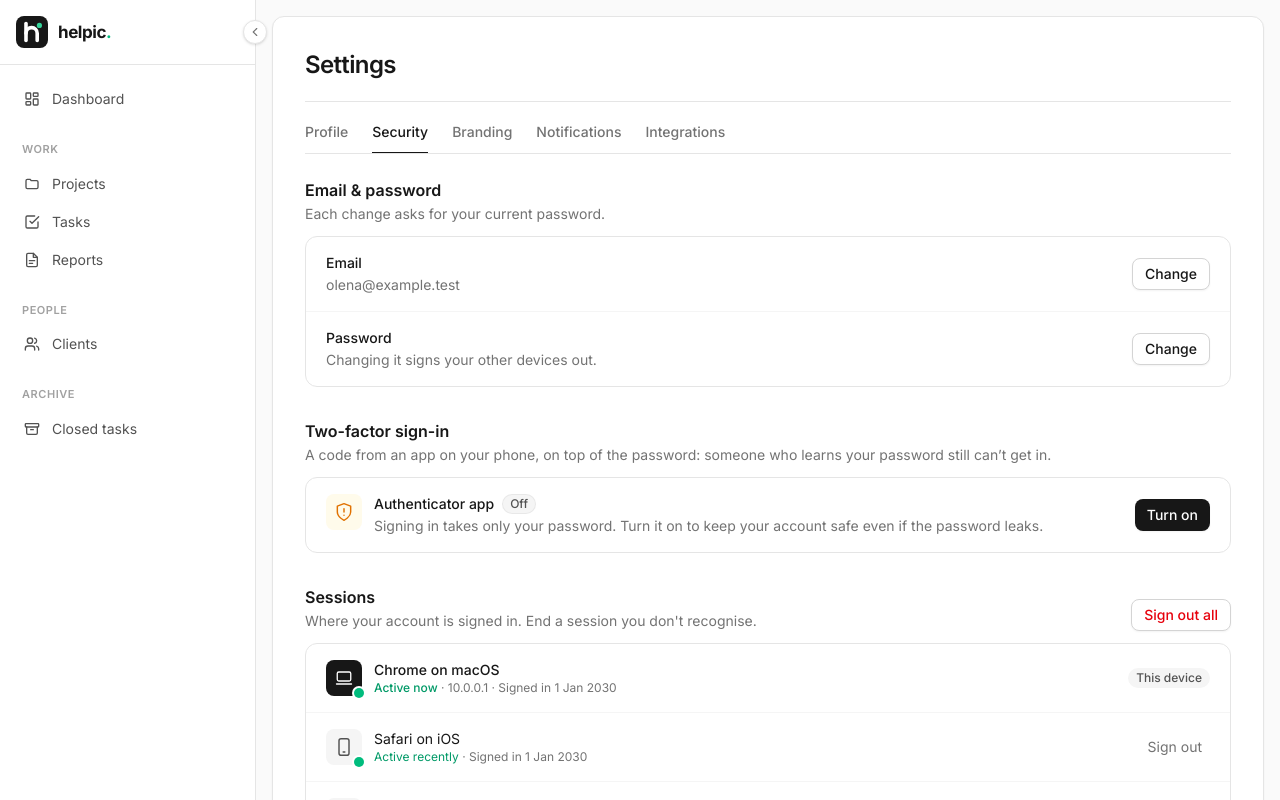
Test case: Settings › Security › hands a refused new password back to its field
Click the 2nd button "Change" at [1171, 349], box [1132,333,1210,365]
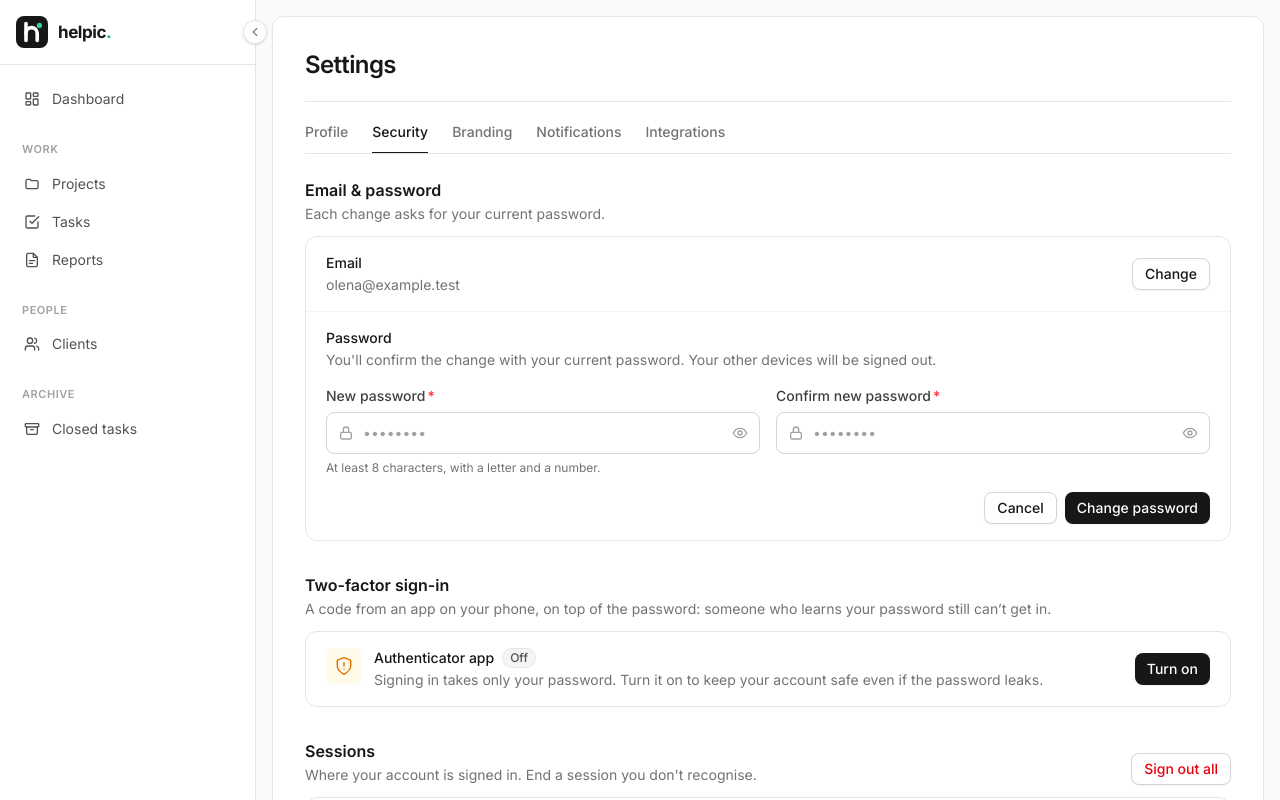
Type "password1" into the password field labelled "New password*" at [543, 433], box [326,412,760,454]
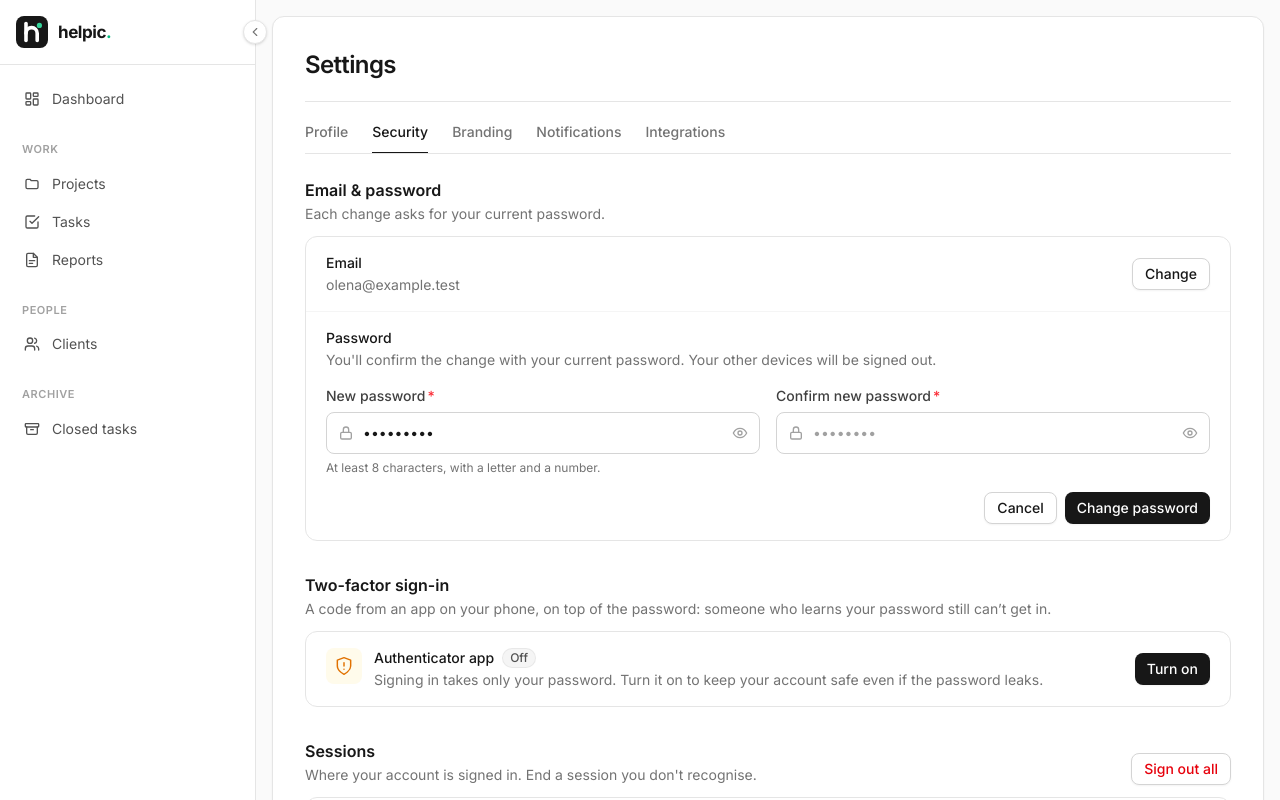
Type "password1" into the password field labelled "Confirm new password*" at [993, 433], box [776,412,1210,454]
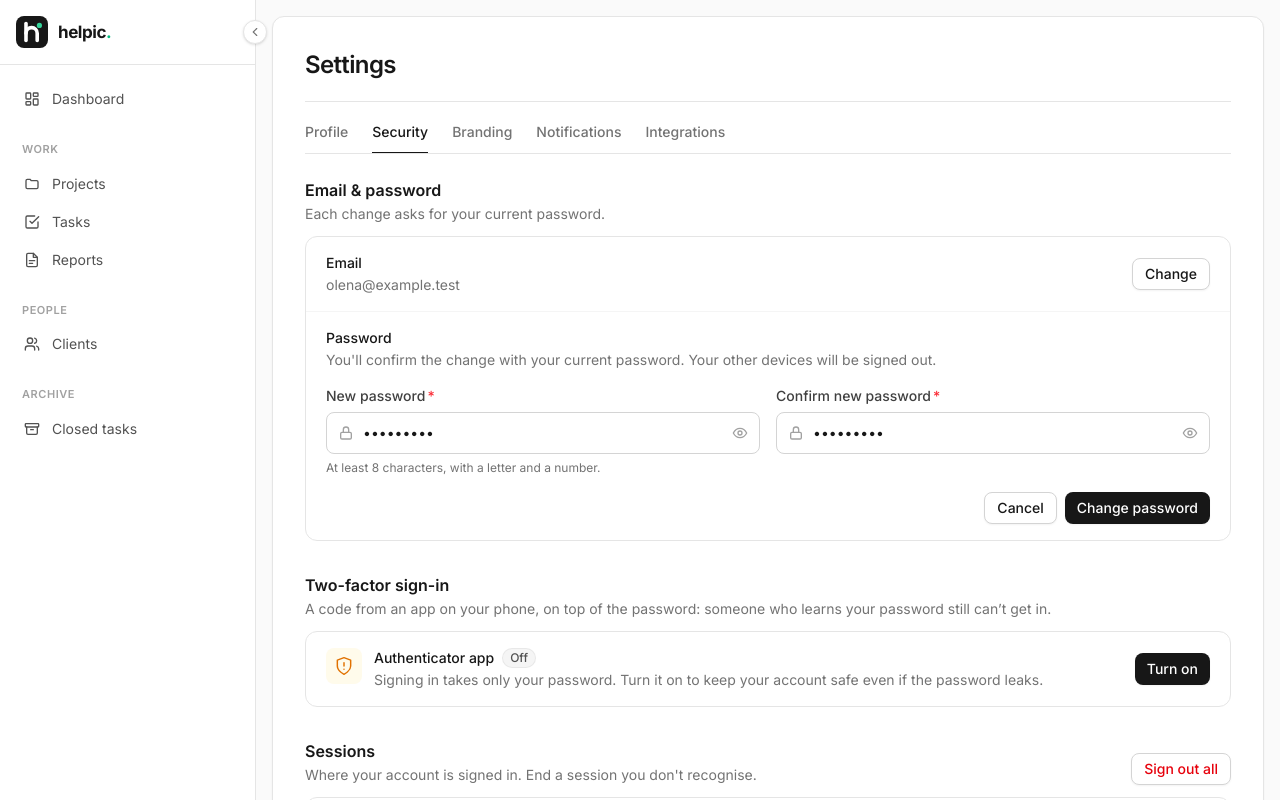
Click the button "Change password" at [1137, 508], box [1065,492,1210,524]
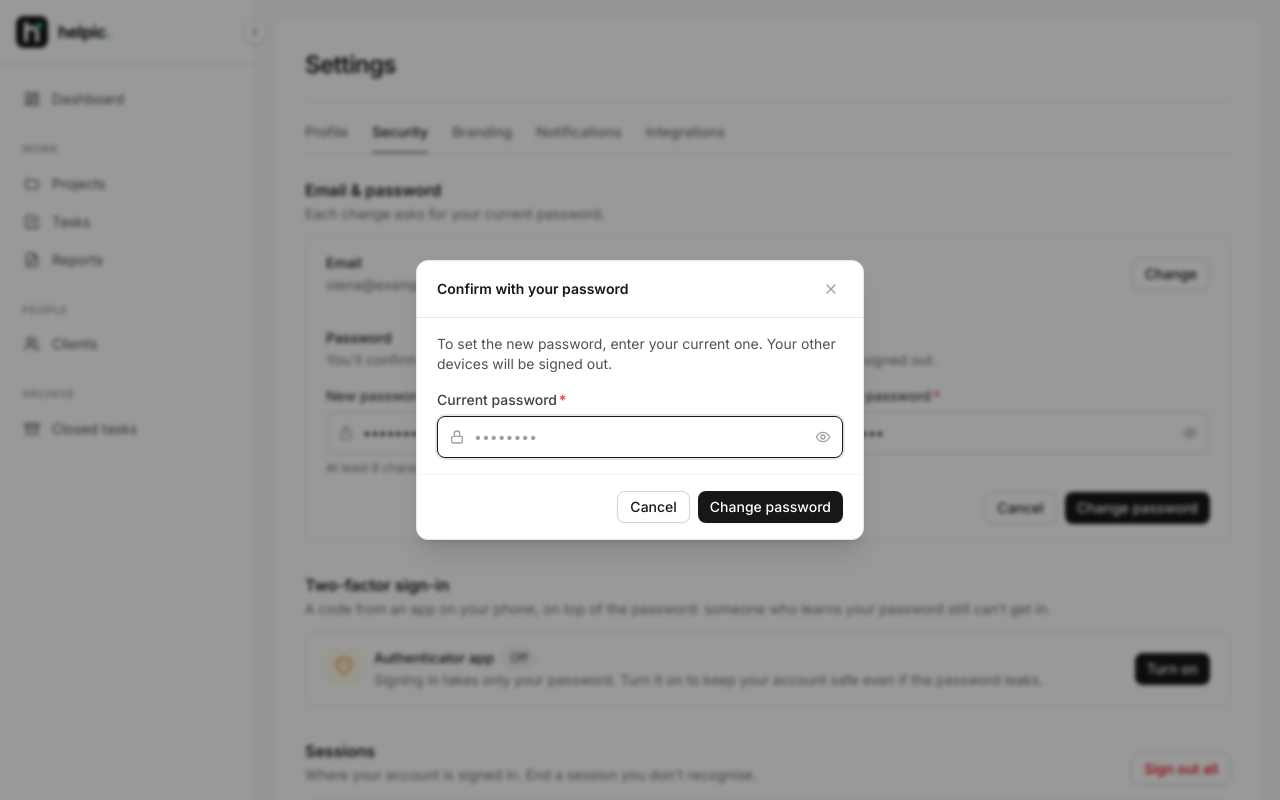
Type "old" into the password field labelled "Current password*" at [640, 437], box [437,416,843,458]
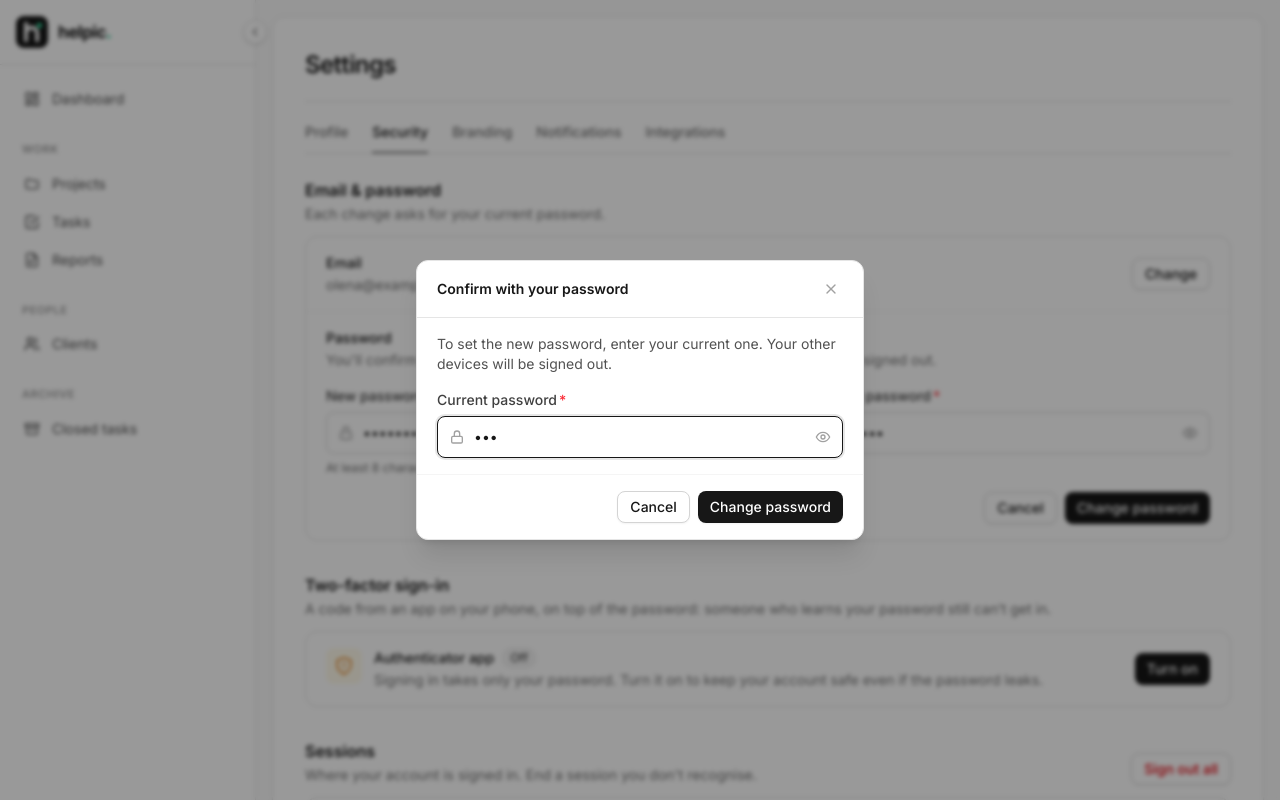
Click the button "Change password" at [770, 507], box [698,491,843,523]
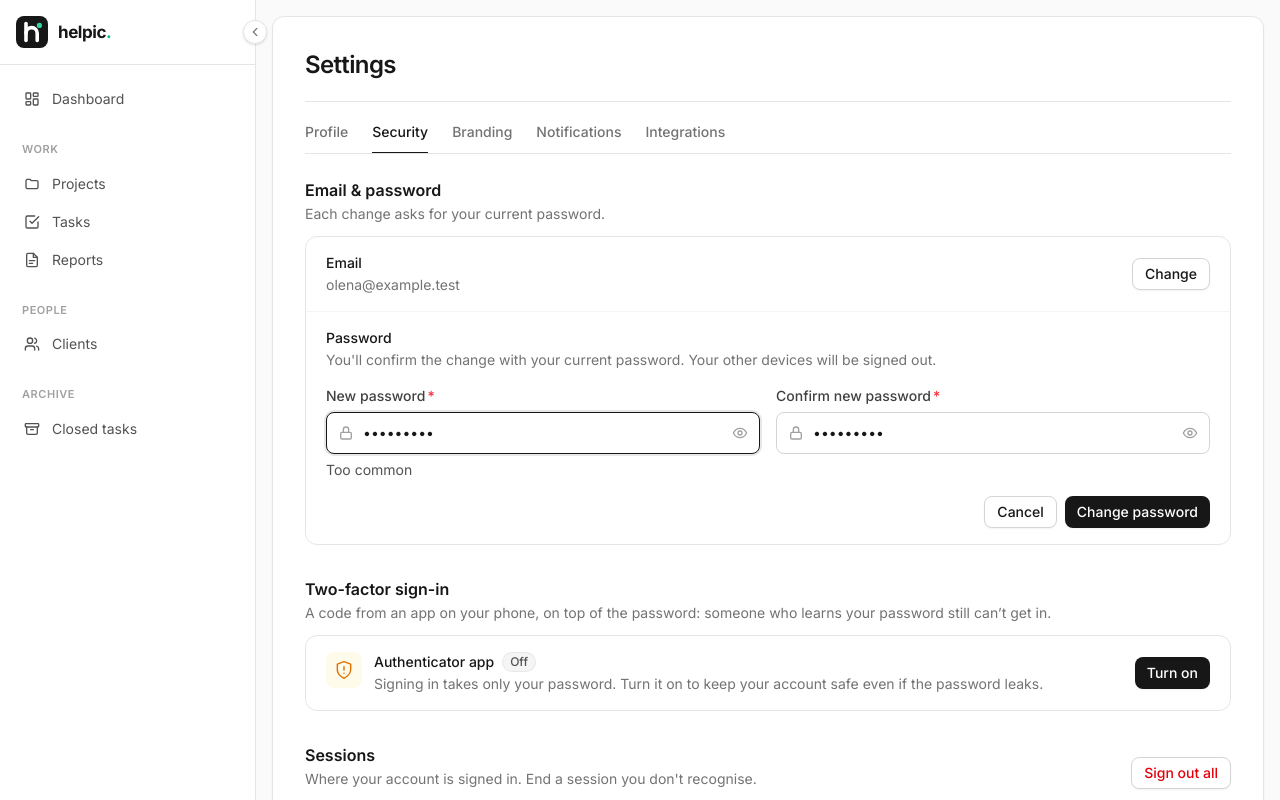
Result: the text "Too common" is shown at [326,461,412,478]
